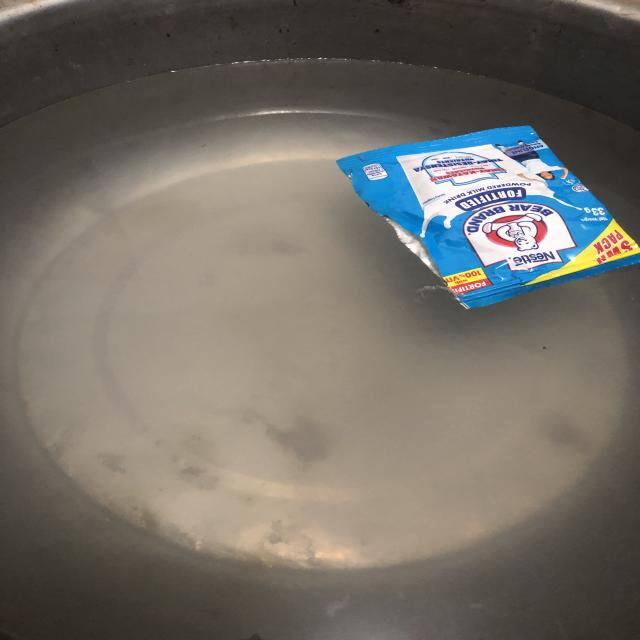Plastic Wrapper: (335, 117, 640, 310)
